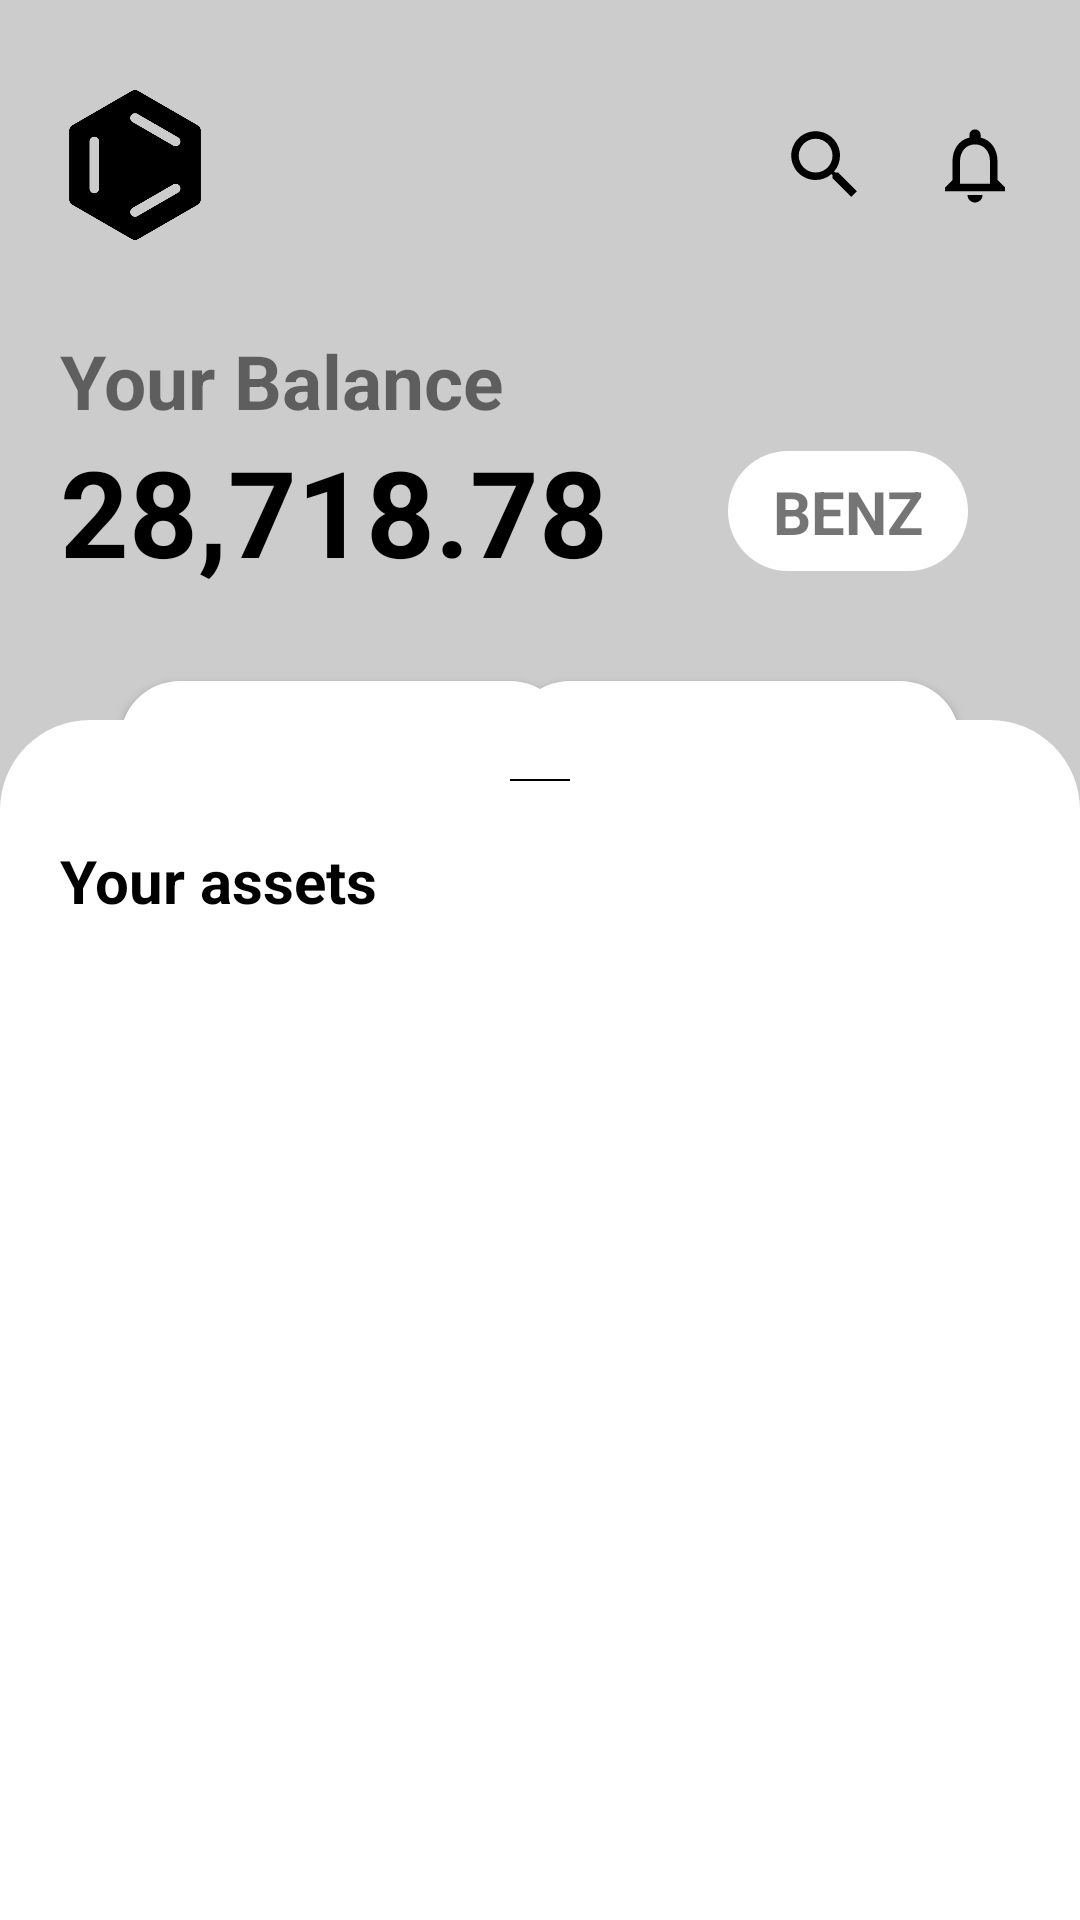

Icon click points for this 1080w x 1920h phone screenshot, format (x=x, y=y):
benzene: (x=135, y=165)
notification: (x=975, y=166)
search: (x=824, y=164)
